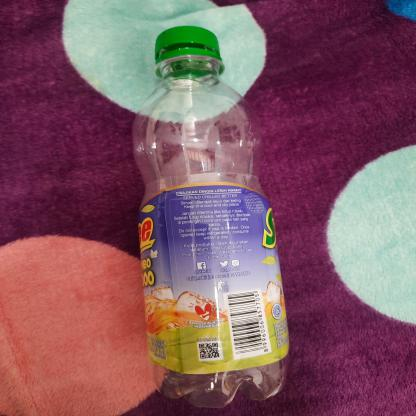bottle: (130, 20, 294, 411)
